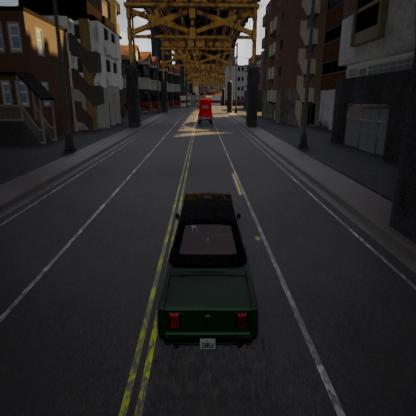Cars: (153, 188, 269, 366), (195, 96, 217, 128)
